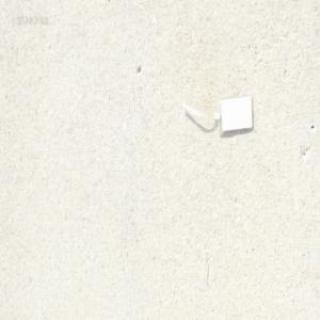LuggageTagtrack_idkeyframe: (178, 89, 255, 135)
